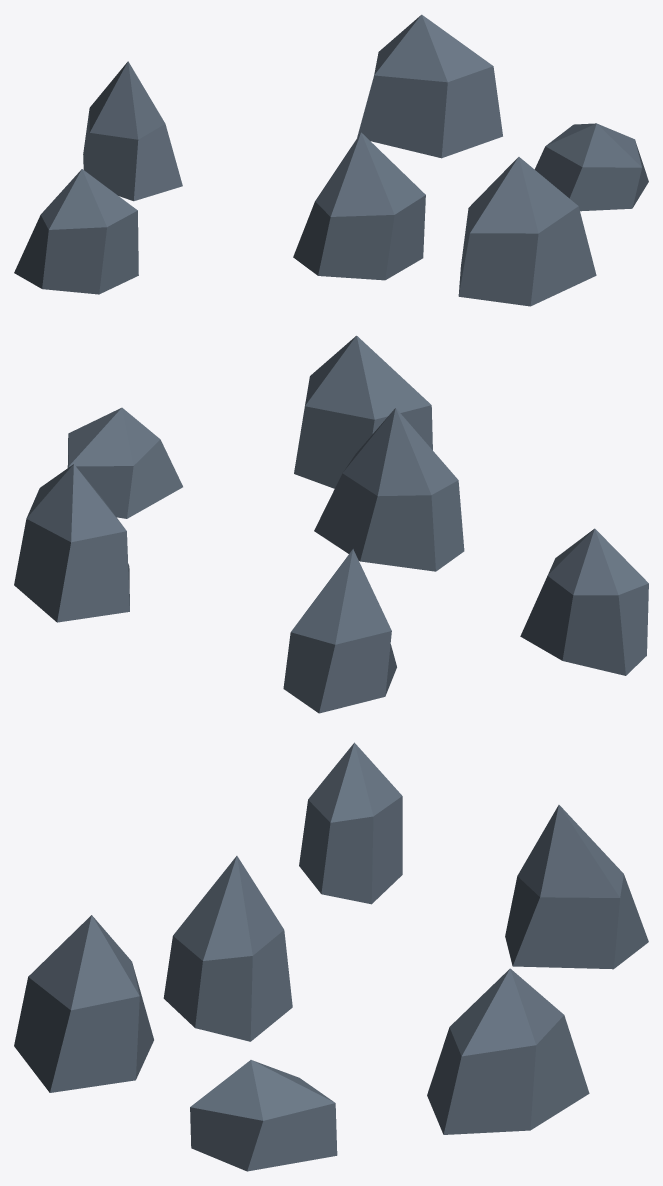
File: ROCK_Glacial_05_FrostShards.fbx
The picture shows the model from 3 angles, top to bottom: view 1: azimuth 30°, elevation 25°; view 2: azimuth 150°, elevation 25°; view 3: azimuth 270°, elevation 25°; orthographic projection. The views are drawn at different scales.
Visible parts, largest first — view 1: ROCK_Glacial_05_FrostShards; view 2: ROCK_Glacial_05_FrostShards; view 3: ROCK_Glacial_05_FrostShards.
Part boxes in pixels (left/top/right/bottom): ROCK_Glacial_05_FrostShards: left=14, top=14, right=648, bottom=306; ROCK_Glacial_05_FrostShards: left=14, top=335, right=648, bottom=713; ROCK_Glacial_05_FrostShards: left=14, top=742, right=648, bottom=1171.
Bounding box in the file's own units: 203 × 42.29 × 166.
